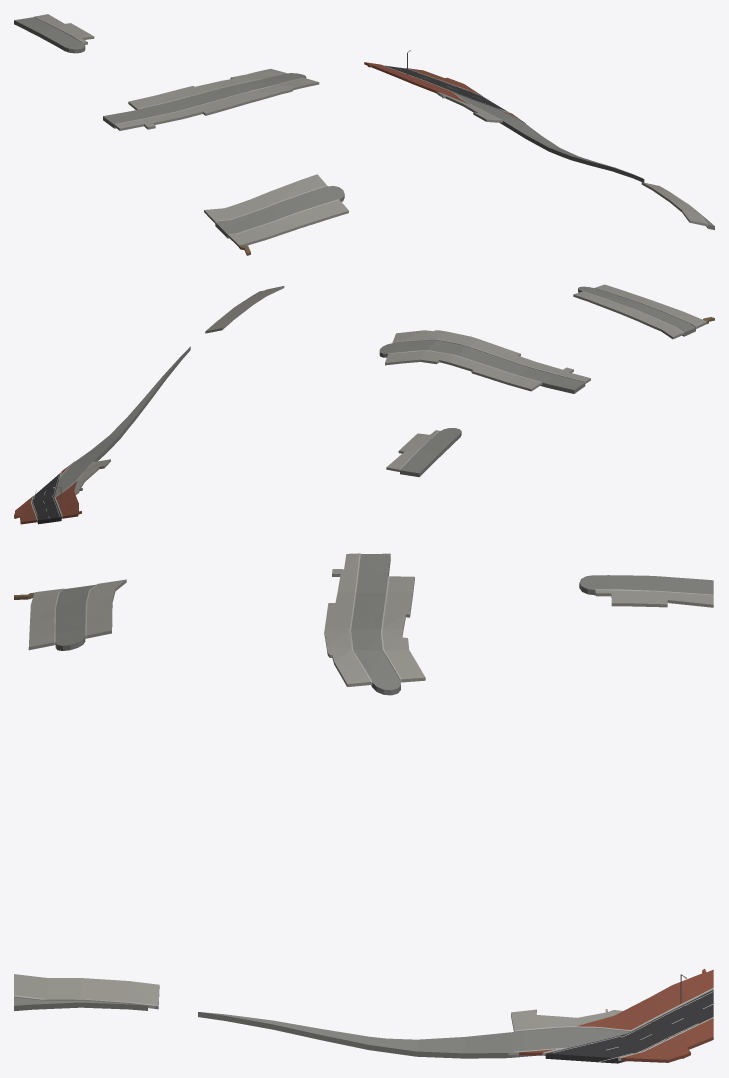
3 views of the same model, one above another, from view 1: azimuth 30°, elevation 25°; view 2: azimuth 150°, elevation 25°; view 3: azimuth 270°, elevation 25° (orthographic). The views are drawn at different scales.
Size of the model in its own units: 148 by 50.1 by 146.
